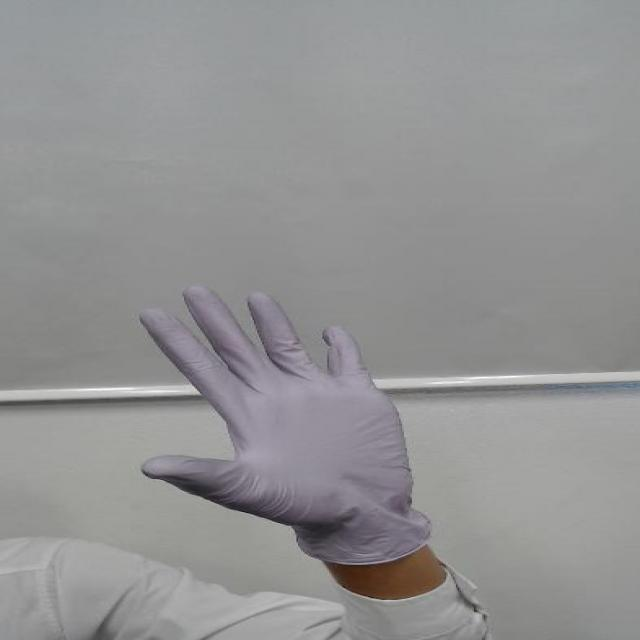with_gloves: (77, 264, 490, 537)
